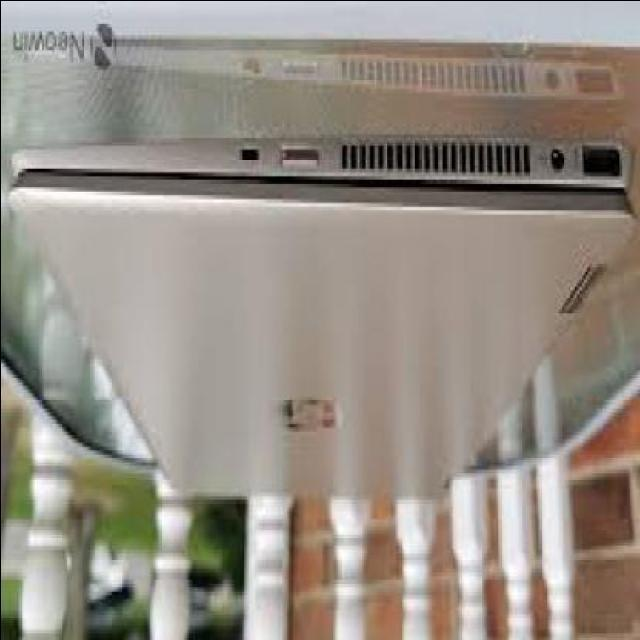laptop: (19, 132, 636, 500)
